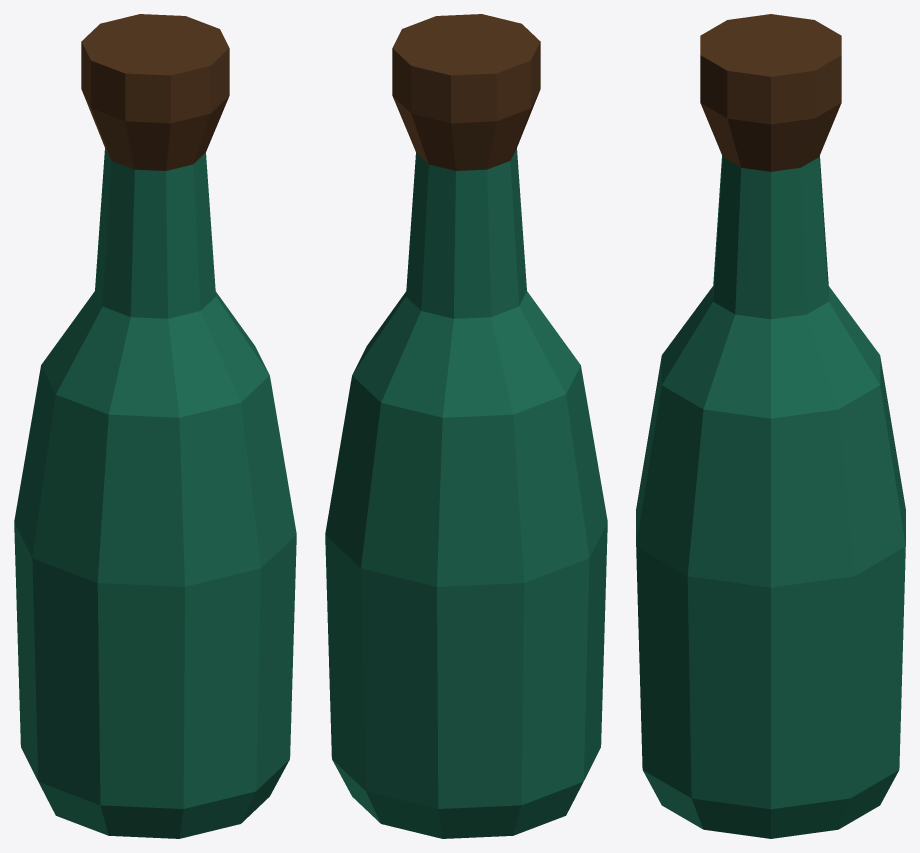
Rendered from bottle_family__tall.obj.
3 views of the same model, side by side, from view 1: azimuth 30°, elevation 25°; view 2: azimuth 150°, elevation 25°; view 3: azimuth 270°, elevation 25° (orthographic).
Visible parts, largest first — view 1: ITEM_Bottle_Family.001_MAT_GlassEmerald, ITEM_Bottle_Family.001_MAT_Cork; view 2: ITEM_Bottle_Family.001_MAT_GlassEmerald, ITEM_Bottle_Family.001_MAT_Cork; view 3: ITEM_Bottle_Family.001_MAT_GlassEmerald, ITEM_Bottle_Family.001_MAT_Cork.
Part boxes in pixels (x1,y1,x2,y2): ITEM_Bottle_Family.001_MAT_GlassEmerald: (14, 148, 296, 838); ITEM_Bottle_Family.001_MAT_Cork: (81, 14, 229, 170); ITEM_Bottle_Family.001_MAT_GlassEmerald: (325, 148, 607, 838); ITEM_Bottle_Family.001_MAT_Cork: (392, 14, 540, 170); ITEM_Bottle_Family.001_MAT_GlassEmerald: (636, 155, 905, 838); ITEM_Bottle_Family.001_MAT_Cork: (700, 14, 841, 171).
Bounding box in the file's own units: 0.6888 × 2 × 0.6551.
